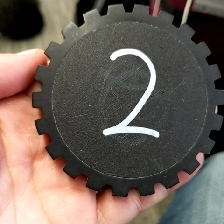gear: (30, 2, 224, 198)
